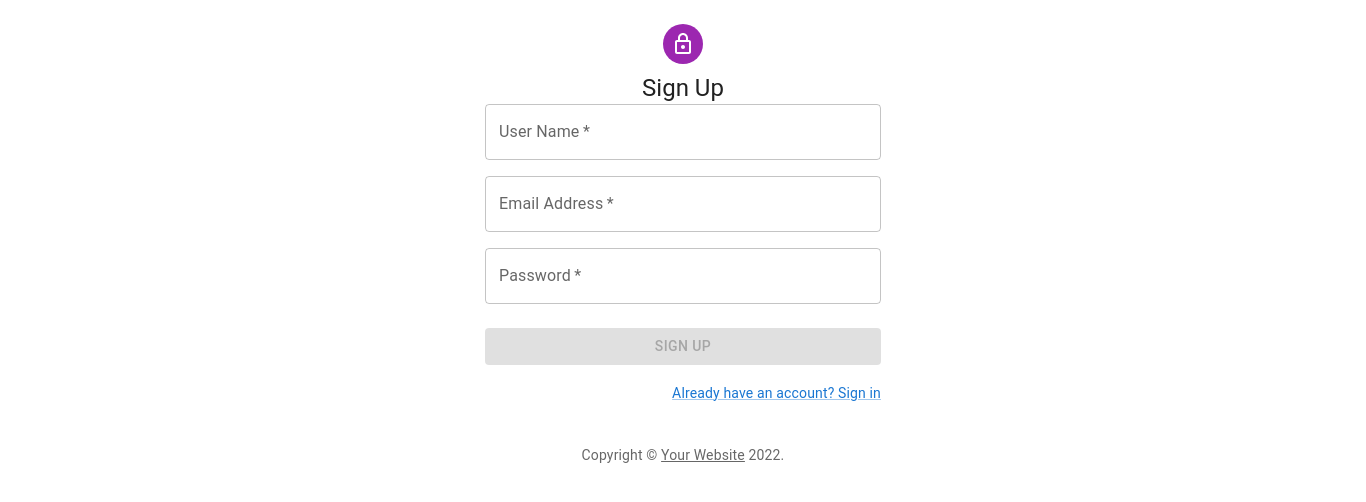
Scenario: components/SignUp › Validations › Should show email is required when the user clears the input or leave the field empty
Type "test" into the field labelled "Email Address *". click: (683, 204)
box: 485,176 -> 881,232
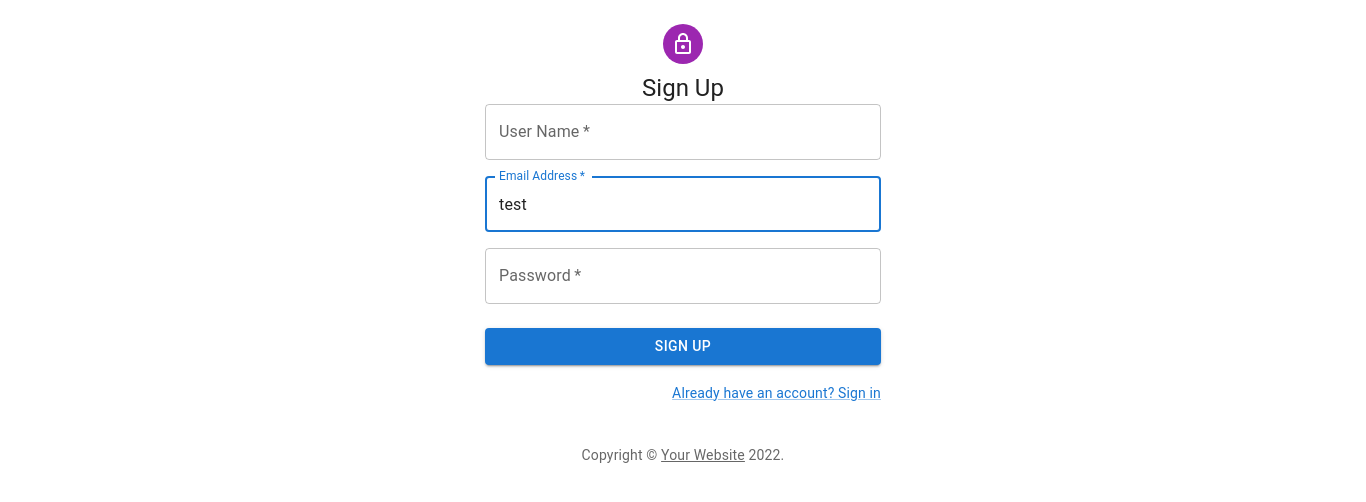
Clear the field labelled "Email Address *". click: (683, 204)
box: 485,176 -> 881,232
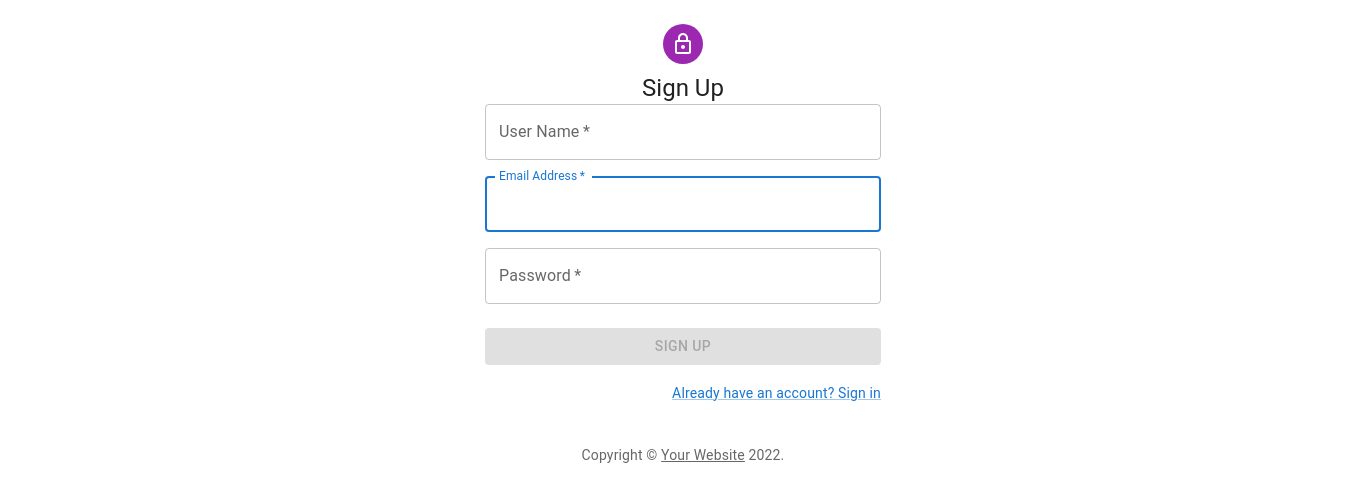
Click the element that starts with "Sign Up". click: (683, 240)
box: 0,16 -> 1365,464
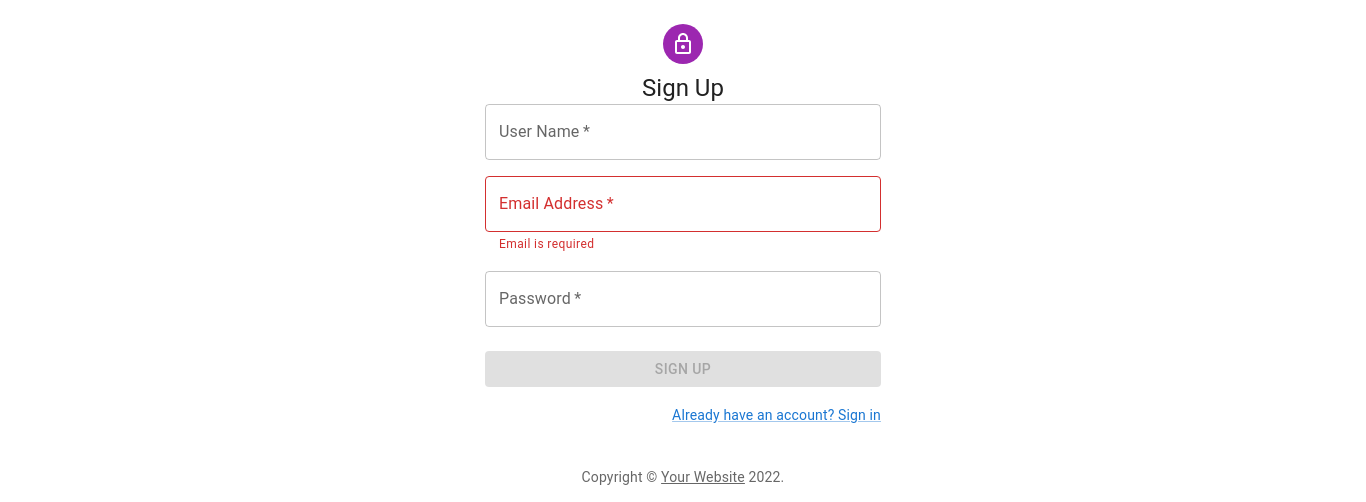
Result: the text "Email is required" is shown at 499,237 -> 594,251
